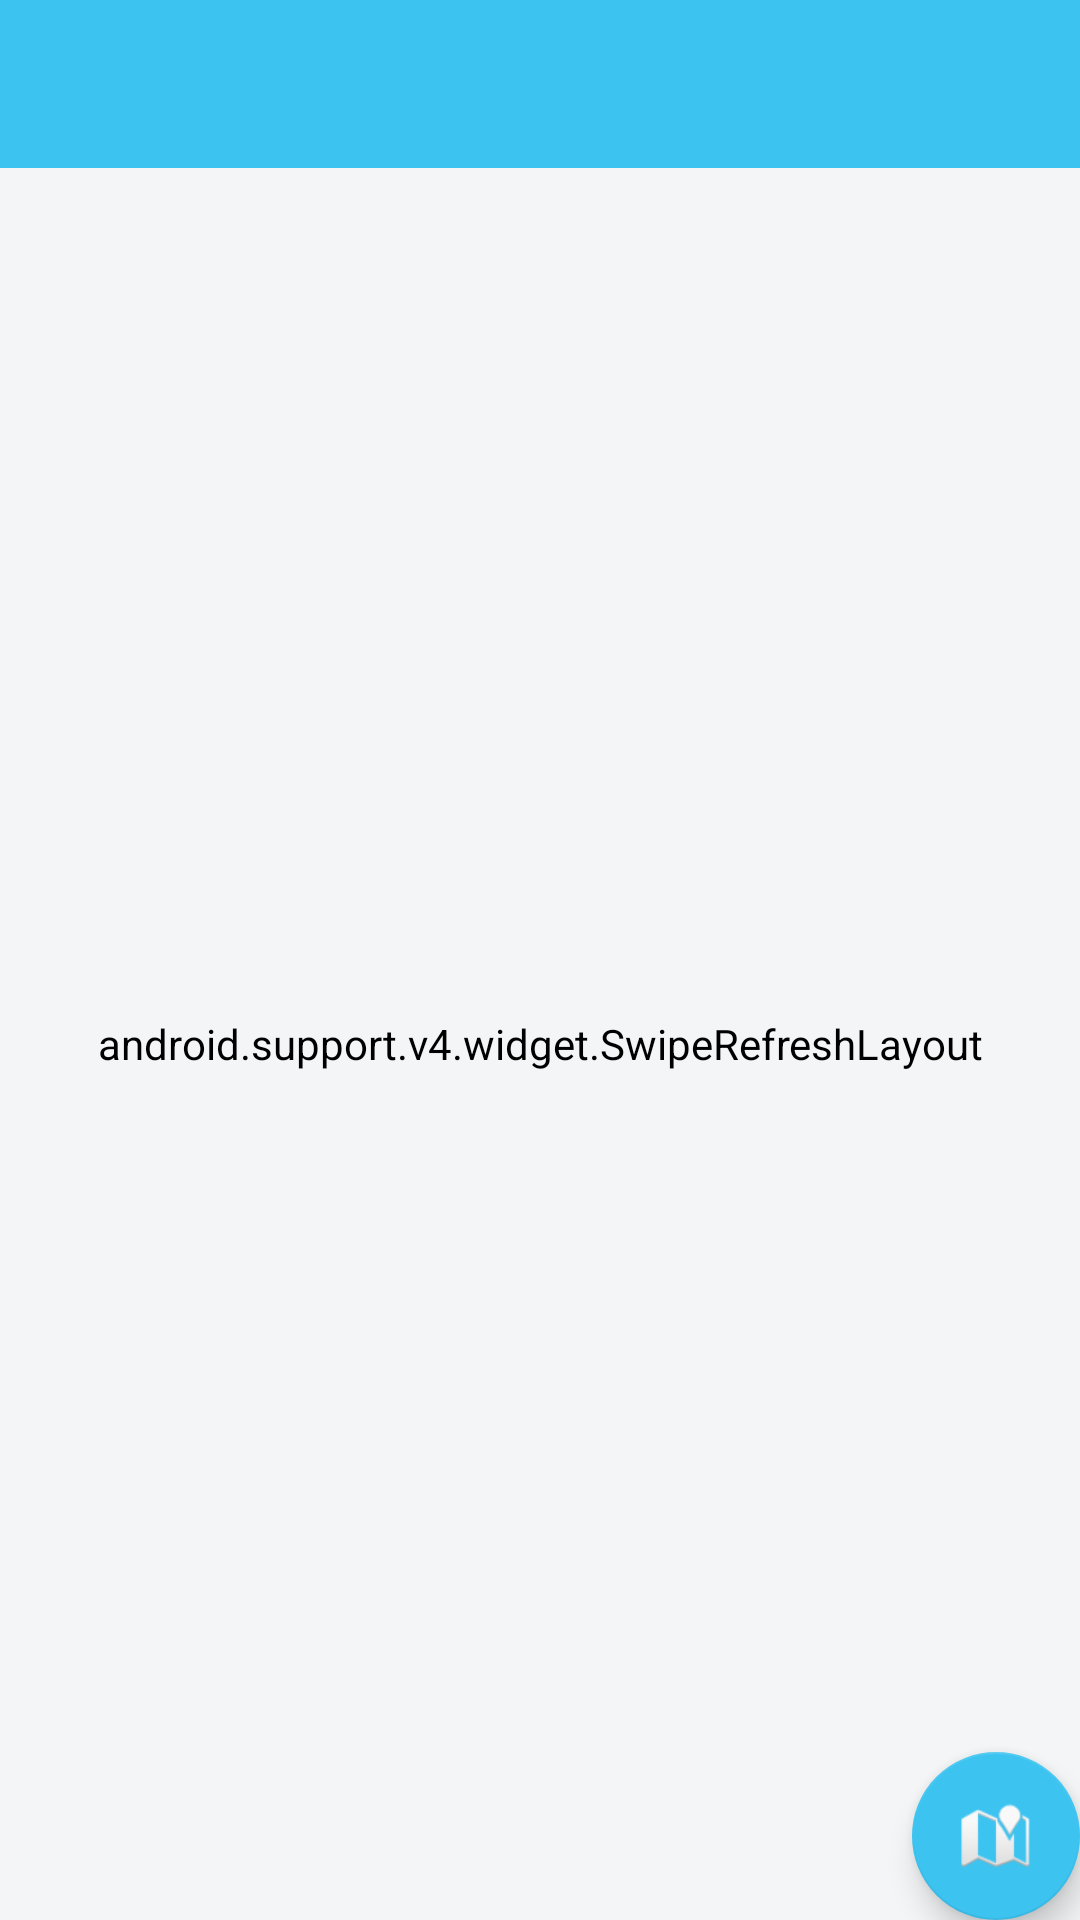

Where icons sit on this 1080w x 1920h app screen, as (x1, y1, x2, y2):
map: (912, 1752, 1080, 1920)
